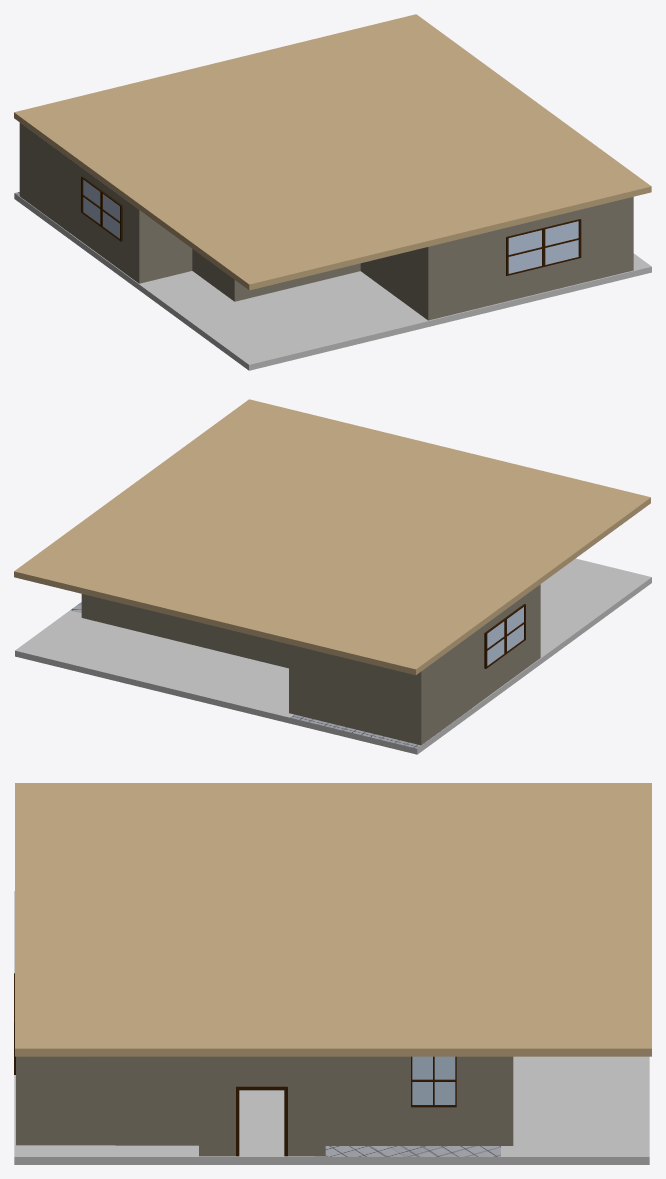
File: 1.Level_Ev_Map.fbx
The picture shows the model from 3 angles, top to bottom: view 1: azimuth 30°, elevation 25°; view 2: azimuth 150°, elevation 25°; view 3: azimuth 270°, elevation 25°; orthographic projection. The views are drawn at different scales.
Visible parts, largest first — view 1: Tavan.001, Ev.001; view 2: Tavan.001, Ev.001; view 3: Tavan.001, Ev.001.
Boxes of the visible parts, box(x1,y1,x2,y2) form: Tavan.001: box(14, 14, 651, 290); Ev.001: box(14, 122, 651, 370); Tavan.001: box(14, 399, 650, 675); Ev.001: box(15, 558, 651, 754); Tavan.001: box(15, 783, 651, 1056); Ev.001: box(14, 891, 649, 1164).
Size of the model in its own units: 2429 by 493 by 2456.
